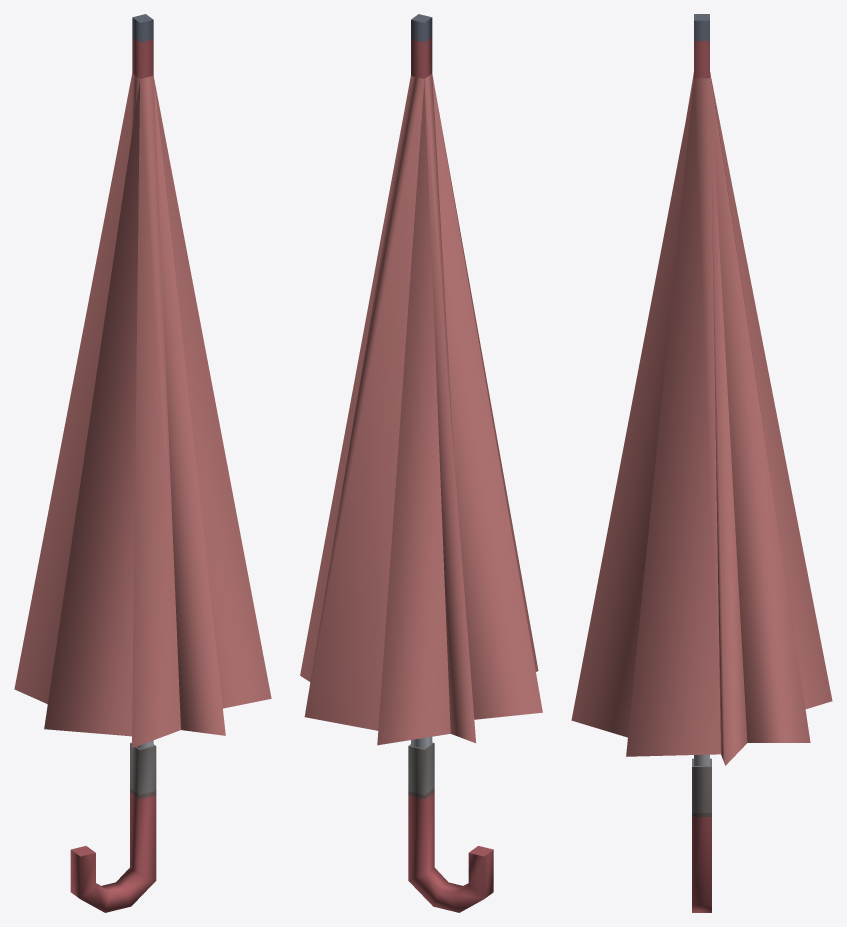
The model's file is 00be_Umbrella.glb.
The picture shows the model from 3 angles, left to right: view 1: azimuth 30°, elevation 25°; view 2: azimuth 150°, elevation 25°; view 3: azimuth 270°, elevation 25°; orthographic projection. The views are drawn at different scales.
Visible parts, largest first — view 1: part_0; view 2: part_0; view 3: part_0.
Part boxes in pixels (x1,y1,x2,y2): part_0: [14, 14, 271, 912]; part_0: [300, 14, 542, 912]; part_0: [571, 14, 832, 912].
Bounding box in the file's own units: 0.3238 × 1.24 × 0.3239.
Materials: 1 (1 with a texture image).
